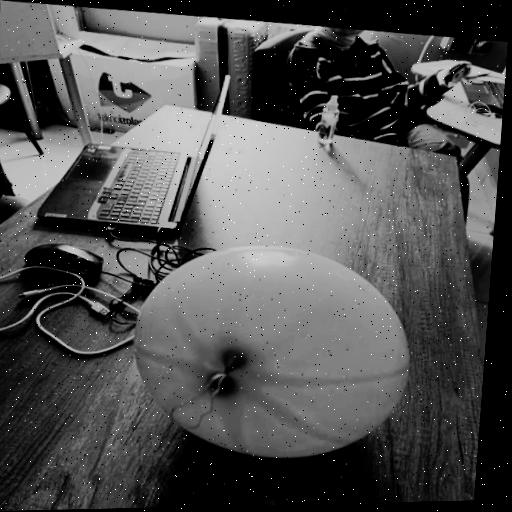balloon: (114, 225, 424, 468)
